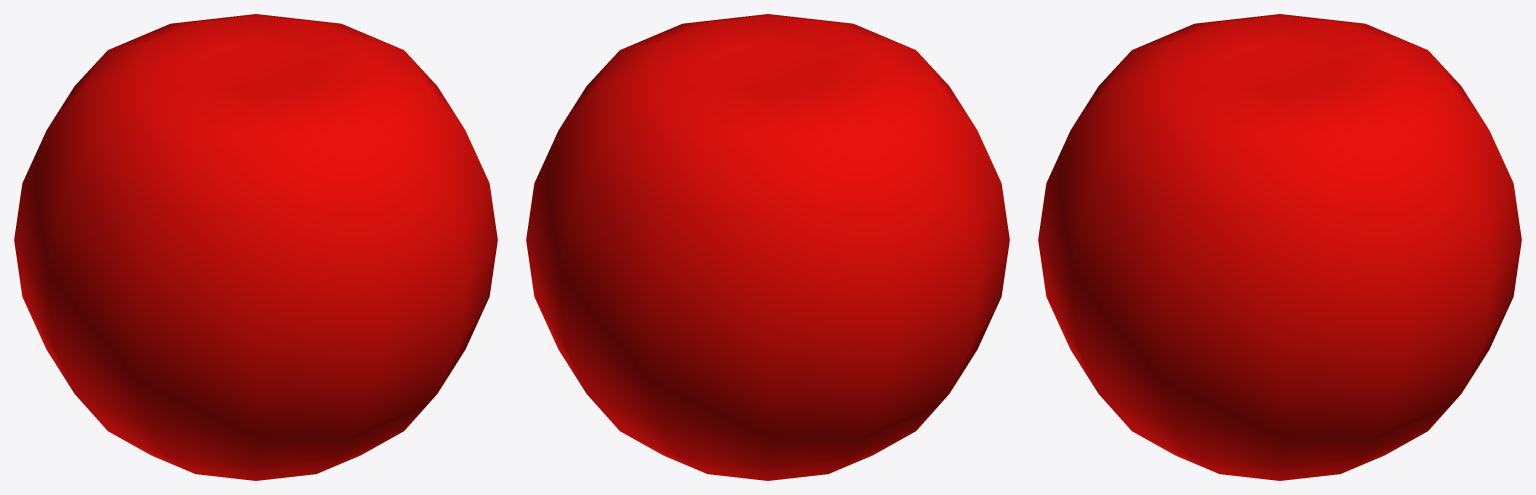
The model's file is Cherry.fbx.
3 views of the same model, side by side, from view 1: azimuth 30°, elevation 25°; view 2: azimuth 150°, elevation 25°; view 3: azimuth 270°, elevation 25° (orthographic).
Parts seen in each view (by area): view 1: Arbusto with Berry.001; view 2: Arbusto with Berry.001; view 3: Arbusto with Berry.001.
Boxes of the visible parts, <box> form: Arbusto with Berry.001: <box>14,14,497,480</box>; Arbusto with Berry.001: <box>526,14,1009,480</box>; Arbusto with Berry.001: <box>1038,14,1521,480</box>.
Size of the model in its own units: 9.84 by 8.79 by 9.84.
